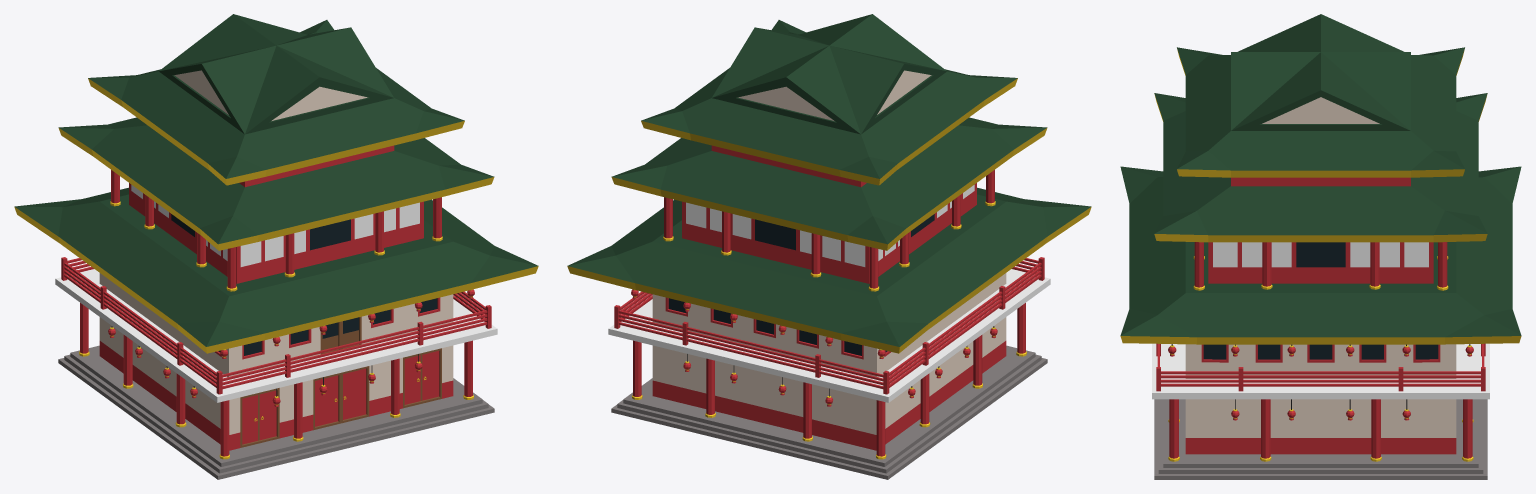
Rendered from building-temple-china.glb.
3 views of the same model, side by side, from view 1: azimuth 30°, elevation 25°; view 2: azimuth 150°, elevation 25°; view 3: azimuth 270°, elevation 25° (orthographic). The views are drawn at different scales.
Parts seen in each view (by area): view 1: building-temple-china; view 2: building-temple-china; view 3: building-temple-china.
Part boxes in pixels (x1=…): building-temple-china: x1=14, y1=14, x2=538, y2=479; building-temple-china: x1=567, y1=14, x2=1091, y2=479; building-temple-china: x1=1120, y1=14, x2=1521, y2=479.
Bounding box in the file's own units: 17.8 × 17.5 × 17.8.
Materials: 1 (1 with a texture image).
